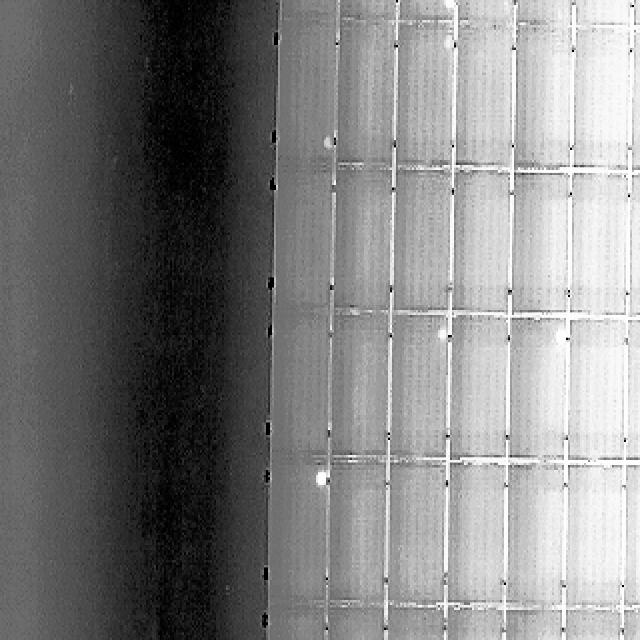Hotspots: (305, 467, 327, 490), (551, 326, 571, 350), (314, 468, 332, 490), (438, 0, 456, 12)
PV-modules: (443, 313, 506, 460), (513, 24, 576, 170), (388, 311, 449, 459), (446, 170, 508, 315), (562, 461, 624, 606), (567, 172, 628, 318), (387, 460, 448, 606), (340, 20, 401, 166), (510, 314, 570, 462), (335, 310, 395, 458), (268, 457, 328, 605), (396, 21, 456, 168), (332, 459, 392, 605), (508, 462, 568, 608), (450, 22, 510, 168), (338, 167, 398, 313), (276, 22, 336, 168), (442, 461, 502, 606), (566, 316, 626, 461), (512, 172, 572, 316), (570, 26, 630, 170), (393, 168, 452, 314), (269, 311, 328, 456), (273, 166, 331, 311), (622, 318, 640, 462), (267, 606, 329, 640), (384, 607, 446, 640), (626, 462, 640, 608), (442, 607, 502, 640), (324, 607, 384, 640), (502, 609, 562, 640), (560, 609, 620, 640), (516, 0, 576, 28), (570, 0, 630, 28), (452, 0, 512, 25), (630, 170, 640, 315), (340, 0, 404, 22), (398, 0, 458, 22), (278, 0, 338, 22), (634, 25, 640, 173), (620, 607, 640, 640), (636, 0, 640, 30)
